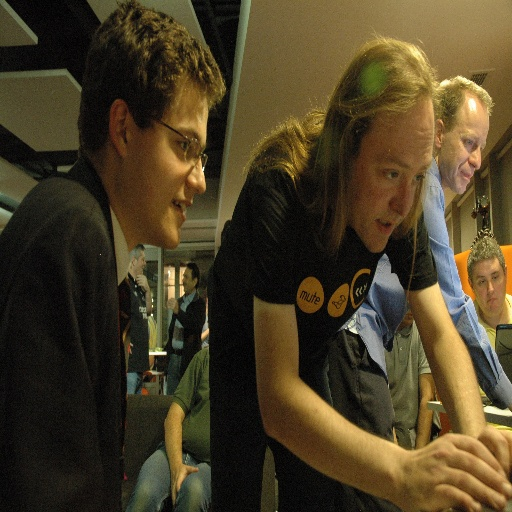hand: (386, 431, 511, 504), (477, 425, 511, 481), (169, 461, 198, 507), (135, 271, 149, 290), (166, 296, 179, 315), (149, 355, 156, 368), (129, 338, 133, 354)
